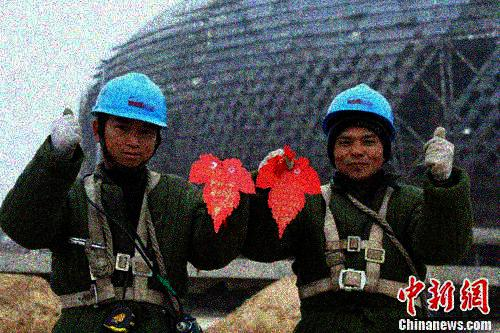helmet: (91, 72, 170, 169), (320, 83, 397, 179)
